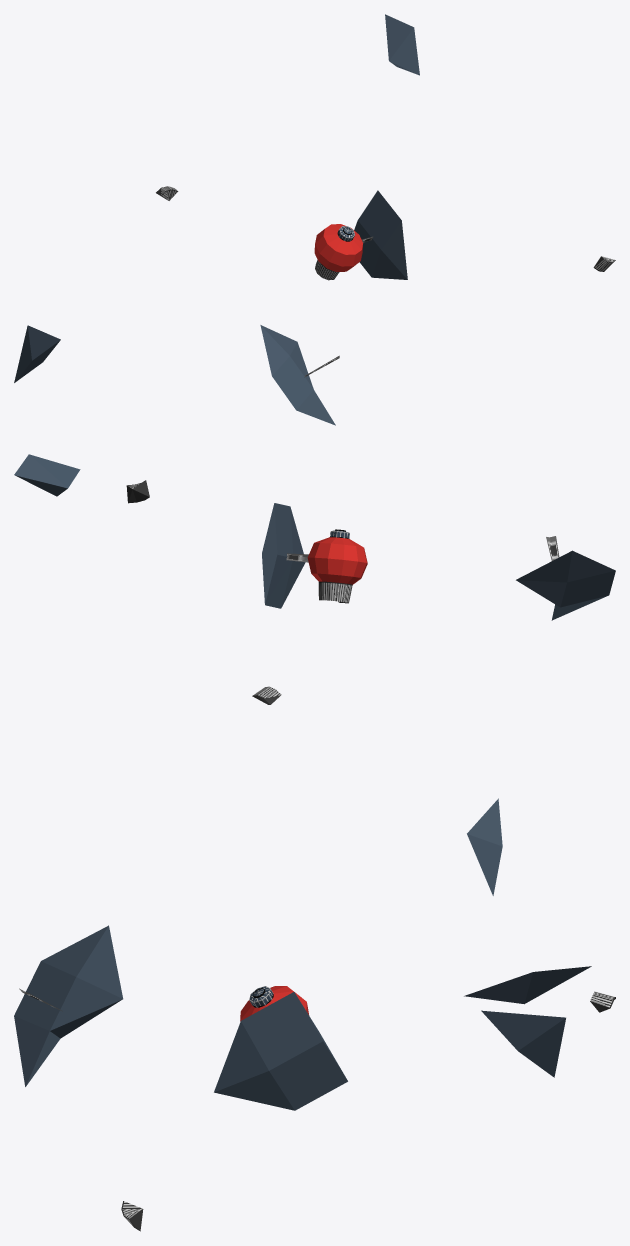
File: Side-Fighter.obj
3 renders of one model, top to bottom at view 1: azimuth 30°, elevation 25°; view 2: azimuth 150°, elevation 25°; view 3: azimuth 270°, elevation 25°, orthographic. The views are drawn at different scales.
Visible parts, largest first — view 1: q; view 2: q; view 3: q.
Boxes of the visible parts, x1,y1,x2,y2 form: q: [14, 14, 615, 425]; q: [14, 454, 615, 895]; q: [14, 925, 615, 1231].
Bounding box in the file's own units: 6.13 × 3.43 × 4.94.
